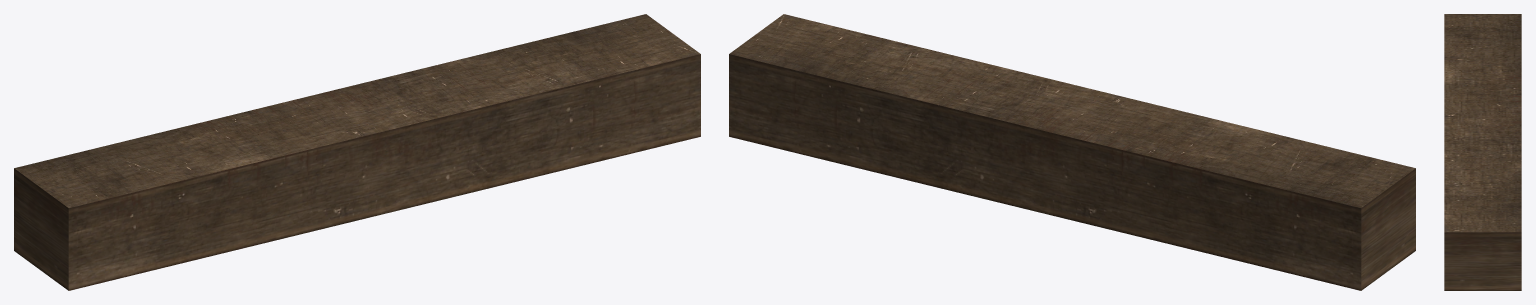
Rendered from FLSS_0.25x2_1.glb.
3 renders of one model, left to right at view 1: azimuth 30°, elevation 25°; view 2: azimuth 150°, elevation 25°; view 3: azimuth 270°, elevation 25°, orthographic. The views are drawn at different scales.
Parts seen in each view (by area): view 1: FLSS_0.25x2_1; view 2: FLSS_0.25x2_1; view 3: FLSS_0.25x2_1.
Boxes of the visible parts, bbox=[...] form: FLSS_0.25x2_1: bbox=[14, 14, 700, 290]; FLSS_0.25x2_1: bbox=[729, 14, 1415, 290]; FLSS_0.25x2_1: bbox=[1444, 14, 1521, 290].
Bounding box in the file's own units: 2 × 0.25 × 0.3.
Materials: 1 (1 with a texture image).
